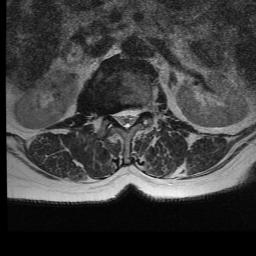CCS_normal: (122, 103, 130, 134)
LFS_normal: (140, 96, 149, 121)
LLS_normal: (130, 102, 139, 128)
RFS_severe_stenosis: (103, 104, 113, 124)
RLS_normal: (113, 101, 122, 130)
